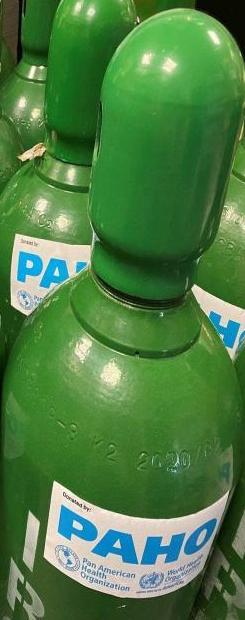cylinder: (0, 1, 245, 620)
